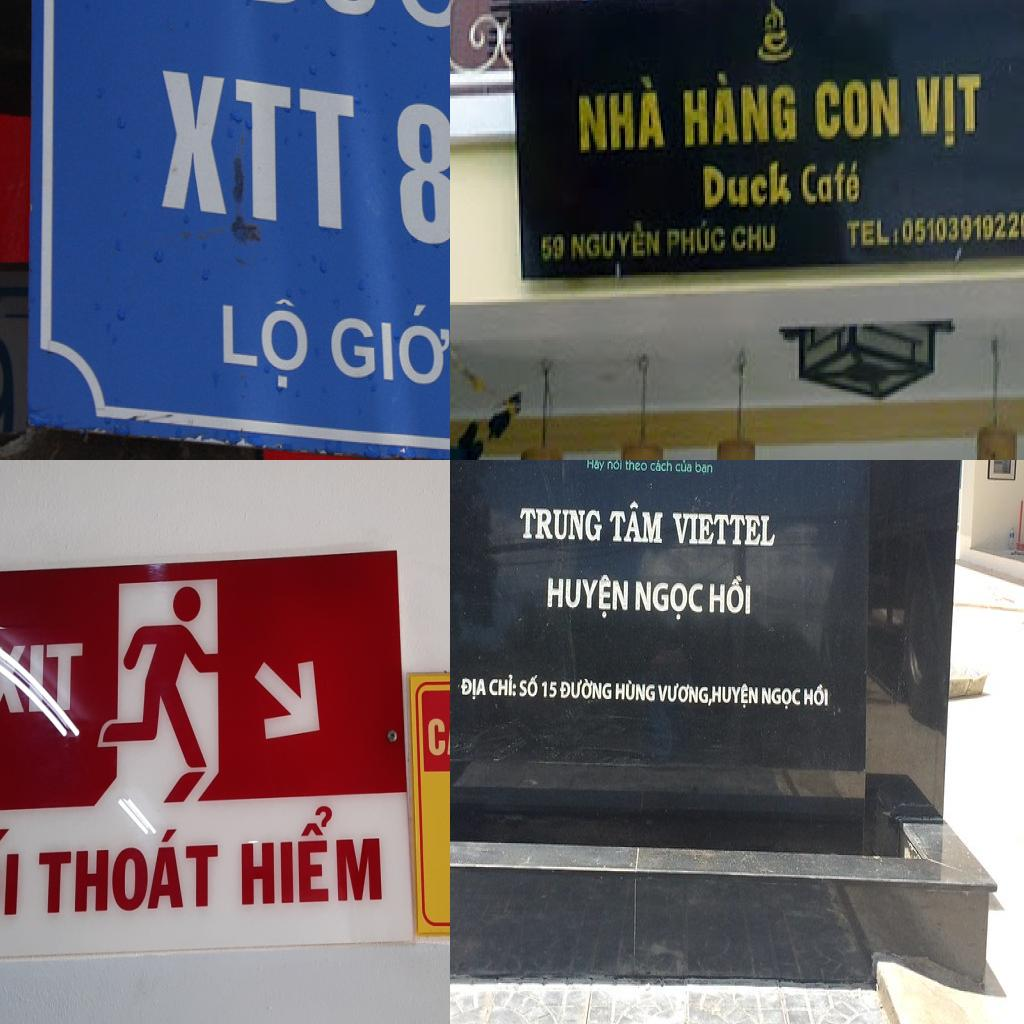text: (152, 50, 363, 246), (317, 287, 450, 416), (38, 822, 218, 916), (237, 799, 383, 907), (211, 286, 316, 402), (386, 85, 450, 252), (677, 71, 799, 153), (569, 71, 669, 158), (0, 642, 84, 716), (911, 71, 985, 153), (811, 77, 901, 142), (670, 504, 778, 551), (699, 161, 791, 212), (571, 218, 665, 267), (544, 571, 630, 623), (518, 500, 605, 548), (633, 575, 706, 628), (797, 161, 865, 207), (606, 500, 666, 550), (839, 215, 903, 256), (667, 218, 727, 259), (707, 574, 752, 619), (0, 824, 20, 919), (731, 218, 779, 256), (424, 704, 450, 761), (560, 676, 613, 703), (657, 682, 713, 707), (712, 682, 760, 710), (760, 683, 803, 711), (537, 231, 567, 267), (614, 679, 656, 704), (488, 671, 518, 702), (459, 676, 488, 702), (518, 672, 540, 700), (541, 678, 559, 702), (650, 460, 675, 476), (625, 460, 648, 476), (694, 460, 715, 476), (675, 460, 693, 476), (585, 460, 606, 473), (606, 460, 624, 473)
